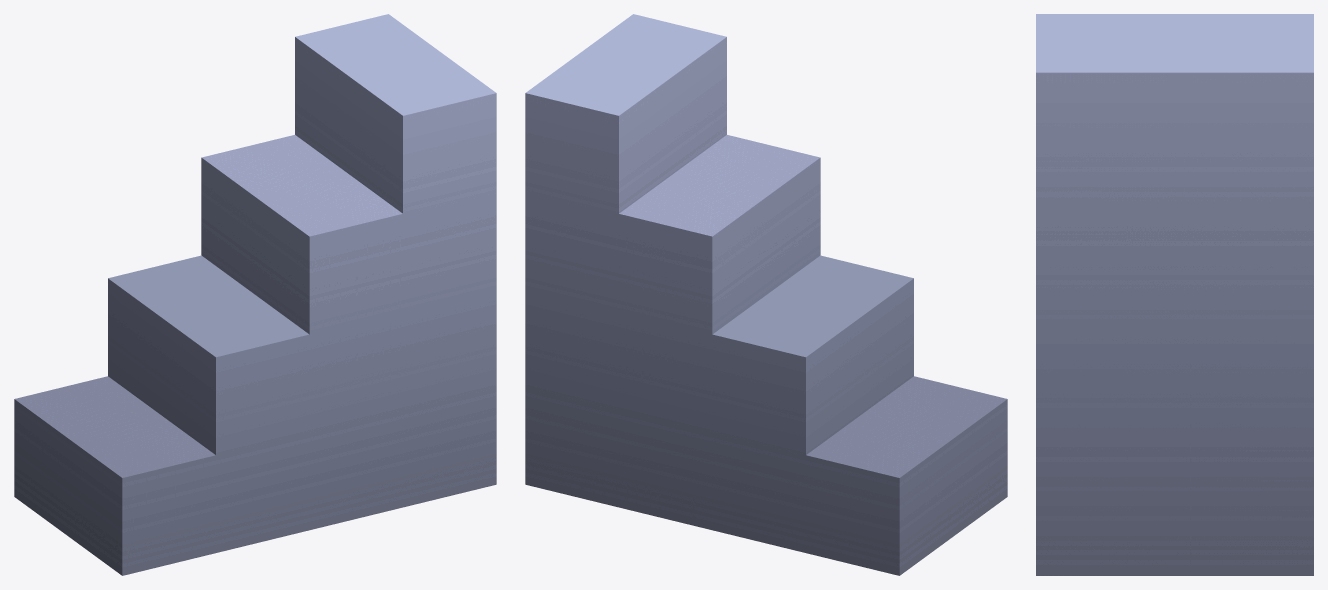
File: stairs-narrow.glb
The picture shows the model from 3 angles, left to right: view 1: azimuth 30°, elevation 25°; view 2: azimuth 150°, elevation 25°; view 3: azimuth 270°, elevation 25°; orthographic projection. The views are drawn at different scales.
Visible parts, largest first — view 1: stairs-narrow; view 2: stairs-narrow; view 3: stairs-narrow.
Boxes of the visible parts, x1=… form: stairs-narrow: x1=14, y1=14, x2=496, y2=575; stairs-narrow: x1=525, y1=14, x2=1007, y2=575; stairs-narrow: x1=1036, y1=14, x2=1313, y2=575.
Bounding box in the file's own units: 1 × 1 × 0.5.
Materials: 1 (1 with a texture image).
